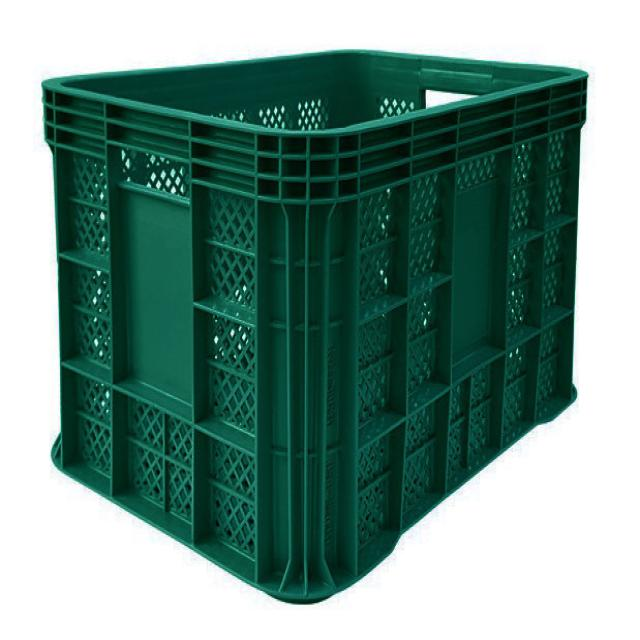basket: (31, 42, 590, 610)
